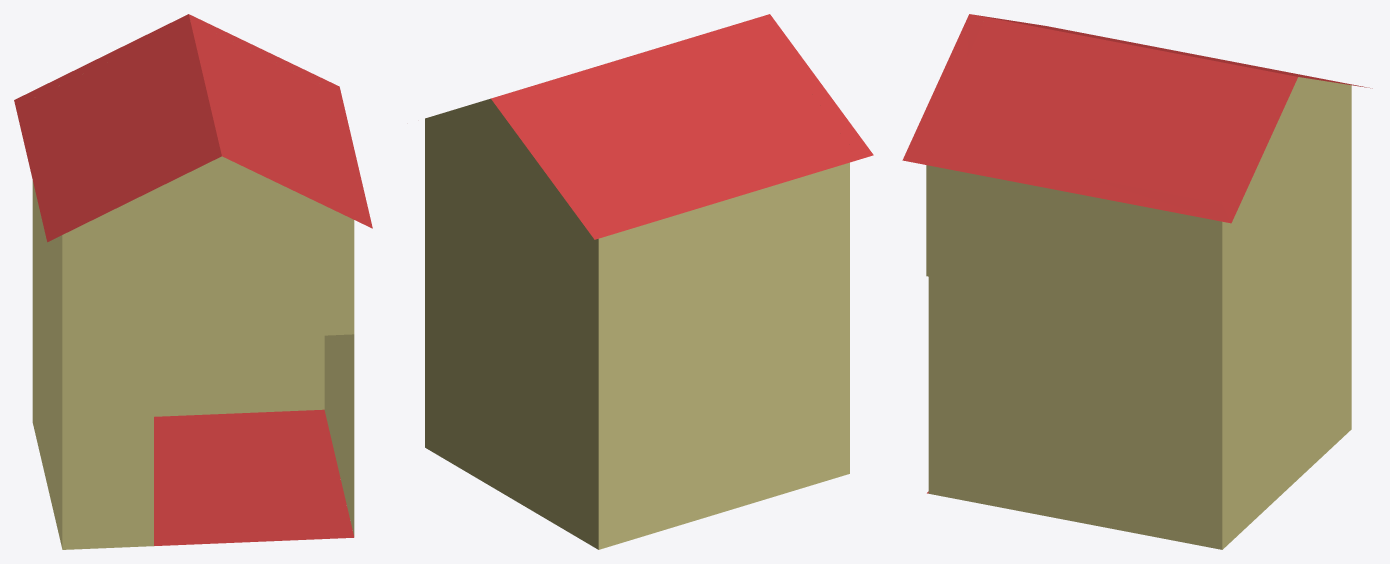
3 views of the same model, side by side, from view 1: azimuth 30°, elevation 25°; view 2: azimuth 150°, elevation 25°; view 3: azimuth 270°, elevation 25° (orthographic). The views are drawn at different scales.
Visible parts, largest first — view 1: group_5, group_3, group_6, group_4; view 2: group_5, group_3, group_4; view 3: group_5, group_3, group_4.
Boxes of the visible parts, x1=… form: group_5: x1=32, y1=85, x2=354, y2=549; group_3: x1=32, y1=14, x2=372, y2=228; group_6: x1=154, y1=409, x2=354, y2=545; group_4: x1=14, y1=14, x2=339, y2=242; group_5: x1=425, y1=98, x2=849, y2=549; group_3: x1=491, y1=14, x2=849, y2=221; group_4: x1=491, y1=15, x2=873, y2=239; group_5: x1=926, y1=77, x2=1351, y2=549; group_3: x1=902, y1=14, x2=1348, y2=223; group_4: x1=967, y1=14, x2=1372, y2=223.
Bounding box in the file's own units: 12.93 × 13.09 × 12.85.
